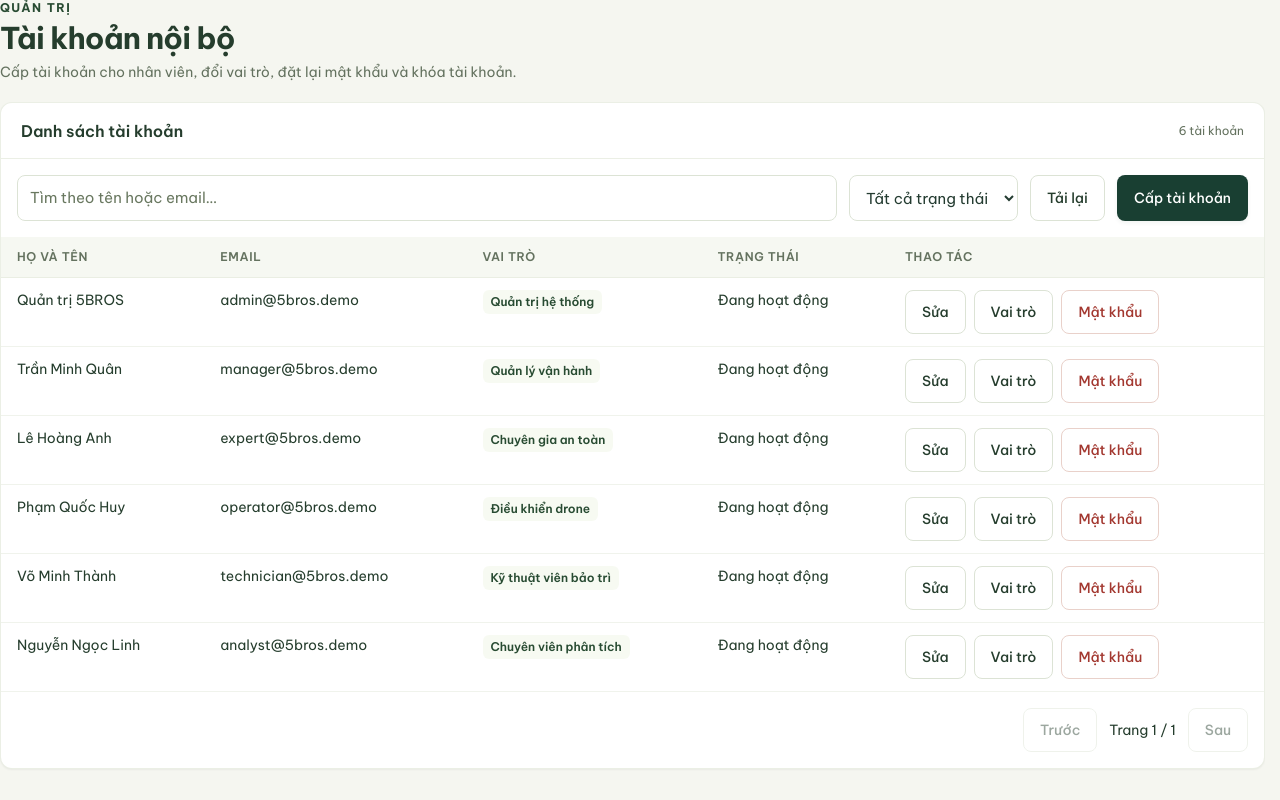
Test: AccountsPage › báo mật khẩu quá ngắn trước khi gọi máy chủ
The image size is (1280, 800).
Expected: the text "admin@5bros.demo" is shown, [204, 278, 466, 346]
Click the button "Cấp tài khoản": (1182,198) [1117, 175, 1248, 221]
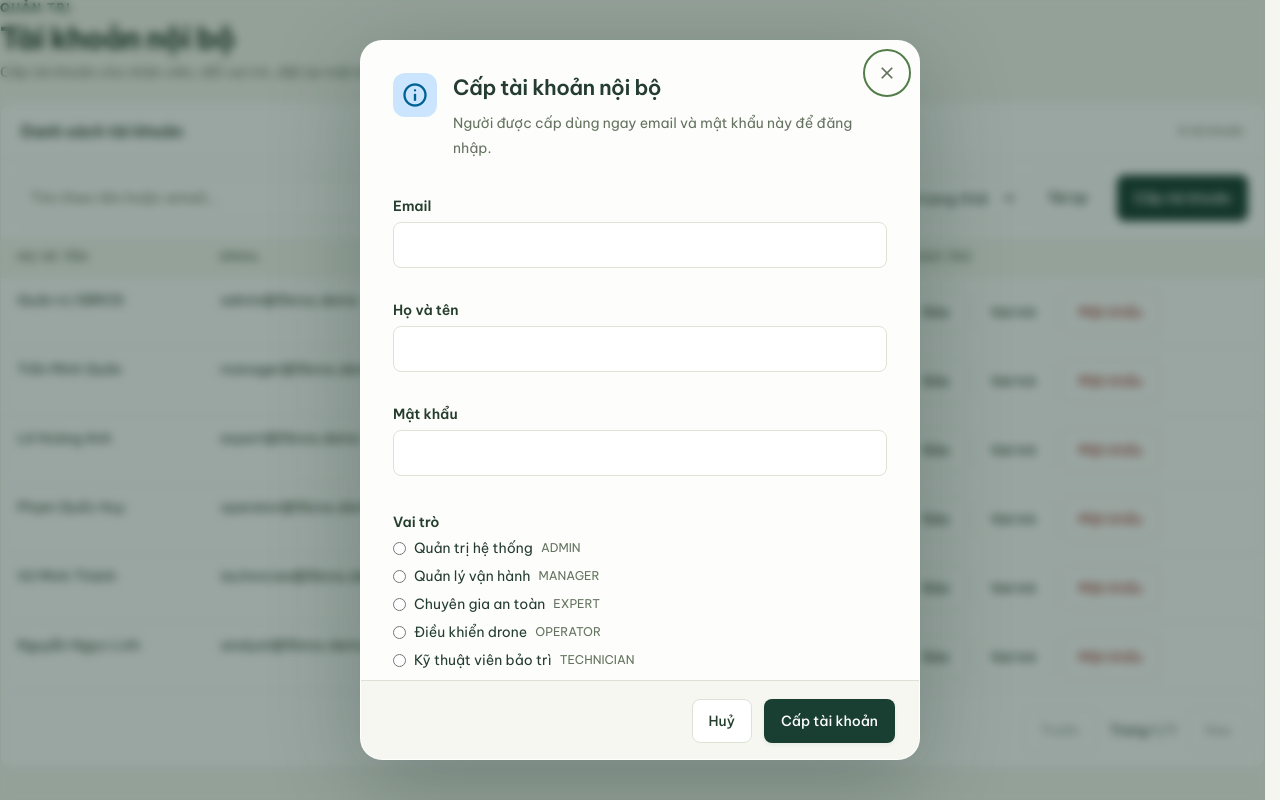
In the field labelled "Email": (640,245) [393, 222, 887, 268], type "moi@5bros.local"
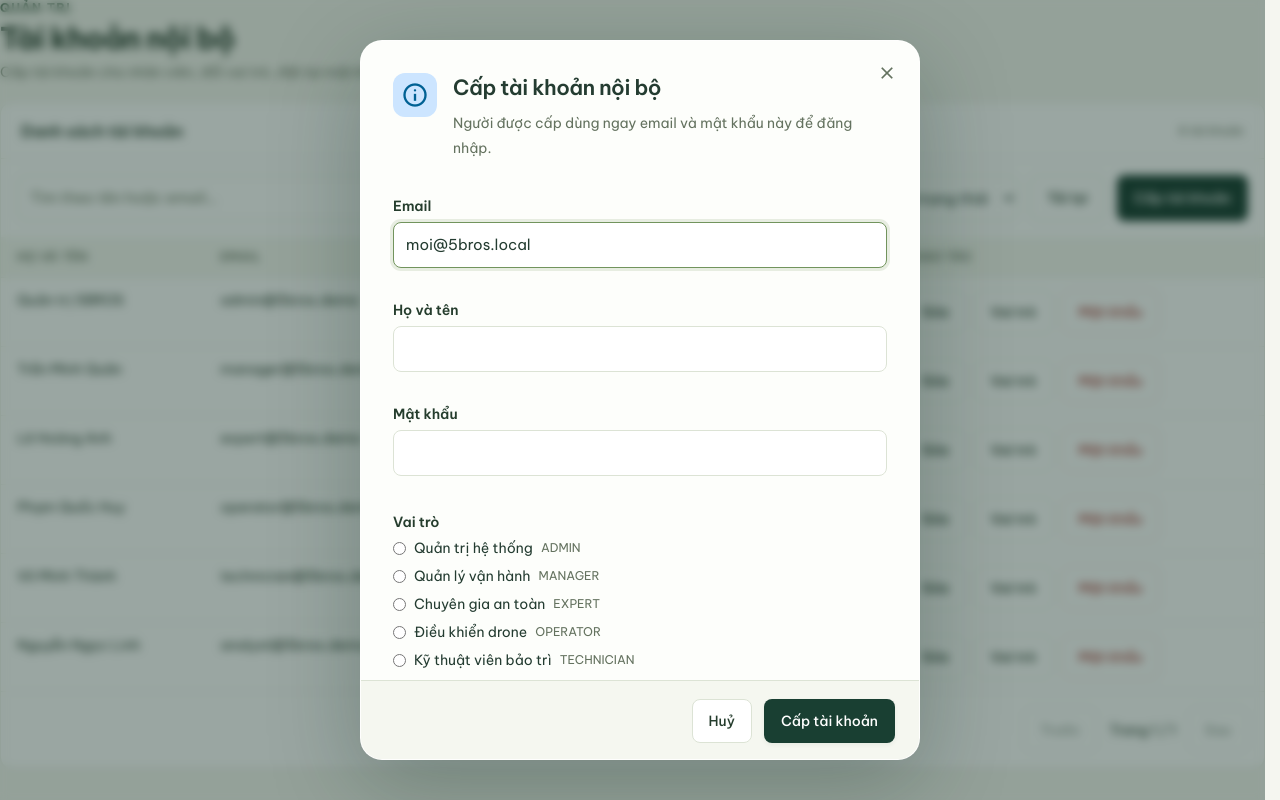
In the field labelled "Họ và tên": (640,349) [393, 326, 887, 372], type "Người Mới"
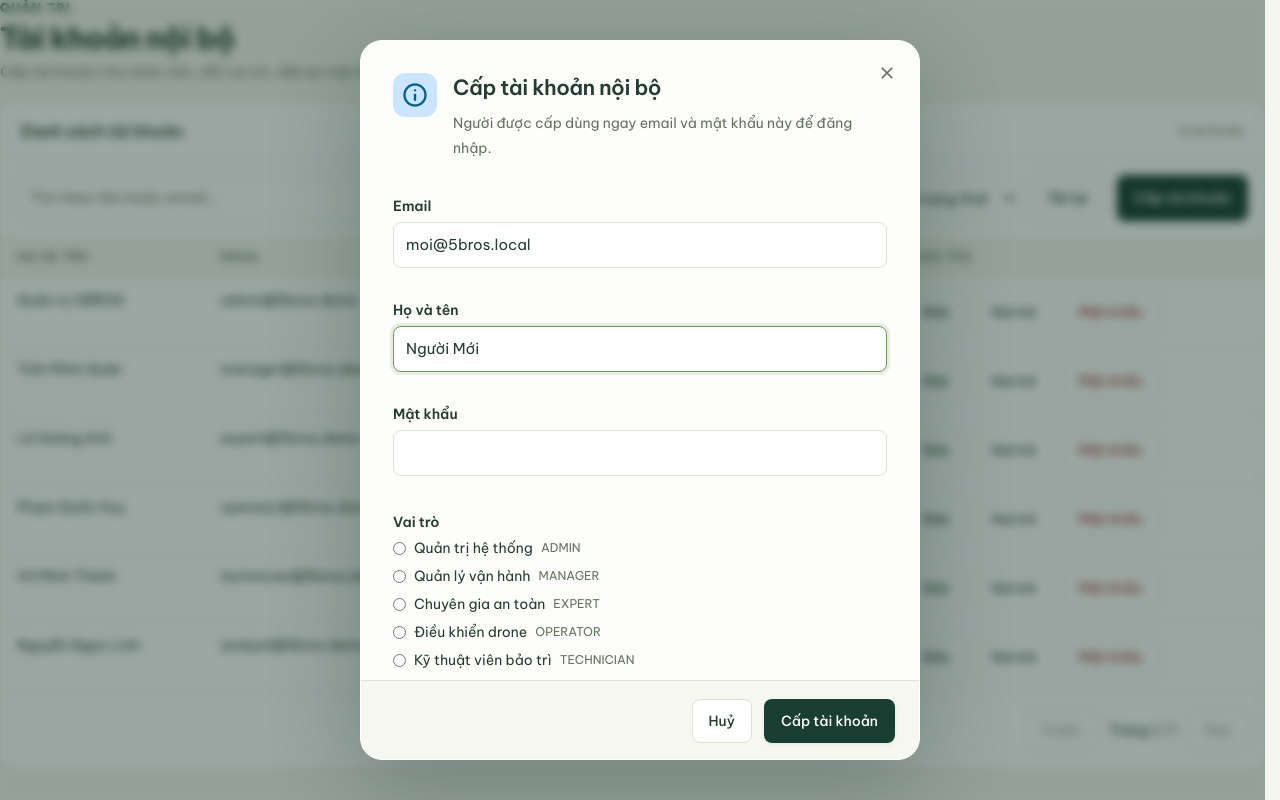
In the password field labelled "Mật khẩu": (640,453) [393, 430, 887, 476], type "ngan"
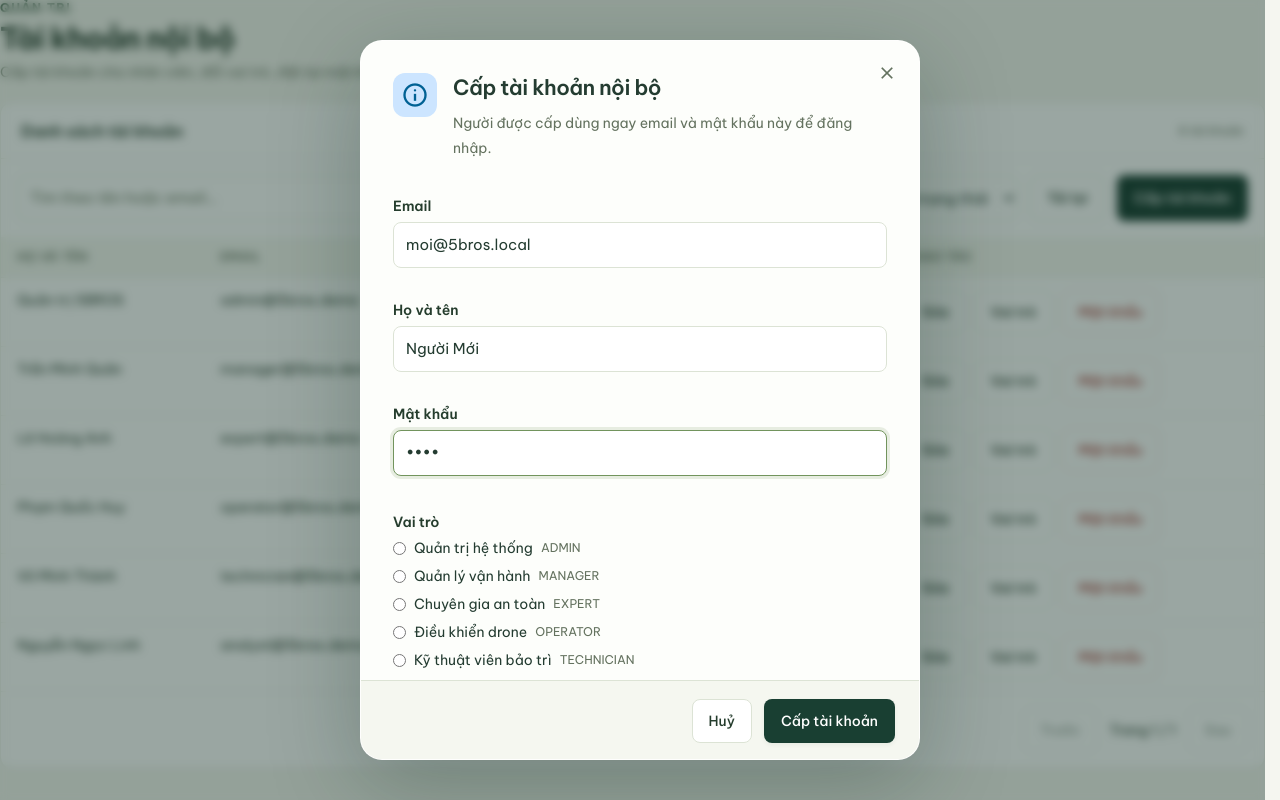
Click the radio button labelled "Quản lý vận hành": (400,576) [393, 570, 406, 583]
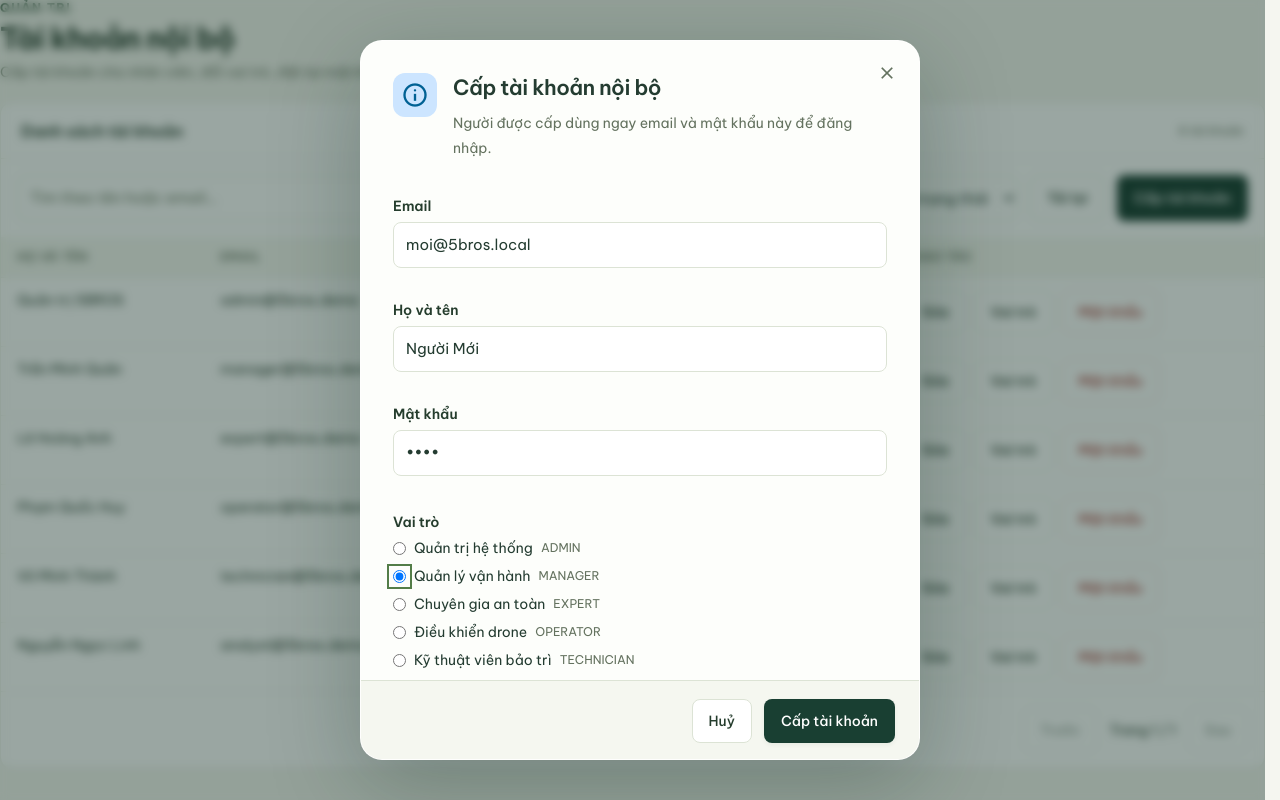
Click the button "Cấp tài khoản": (829,721) [764, 699, 895, 743]
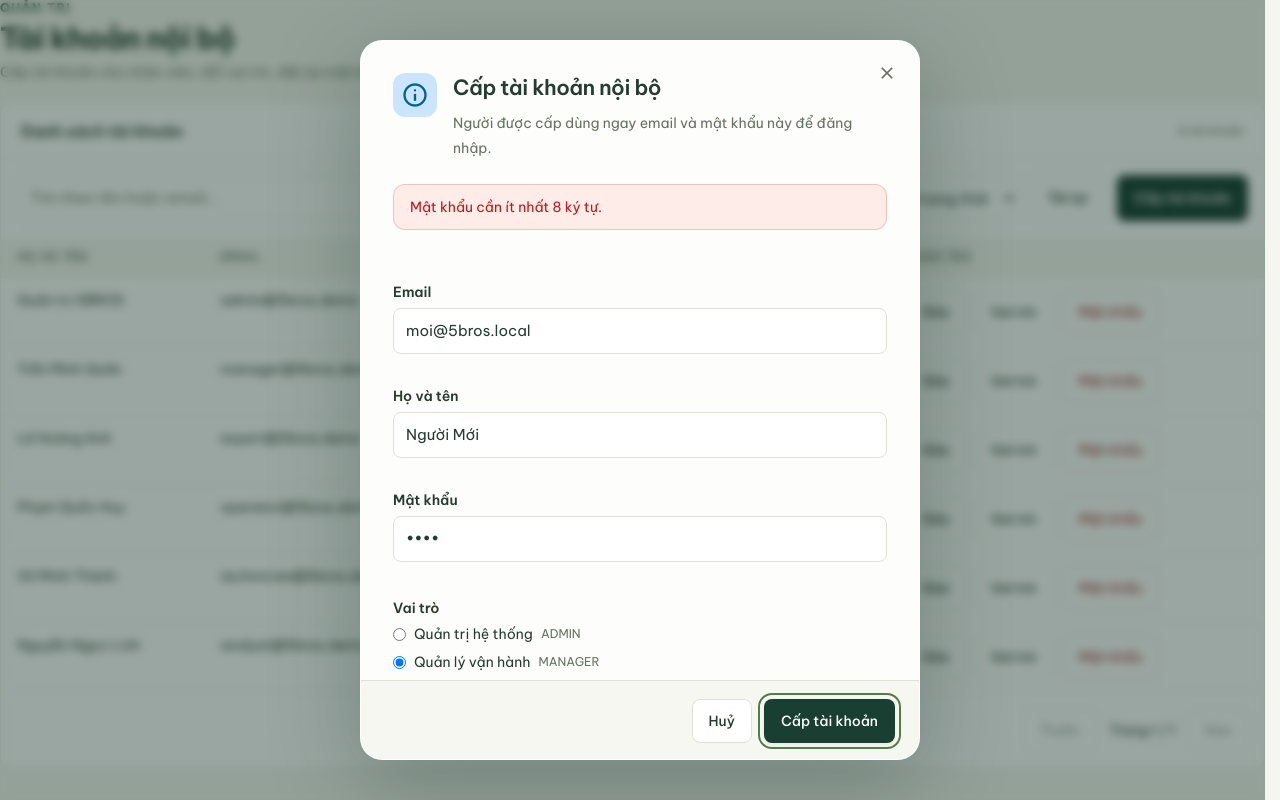
Now the text "Mật khẩu cần ít nhất 8 ký tự." is shown, box [393, 184, 887, 230]
